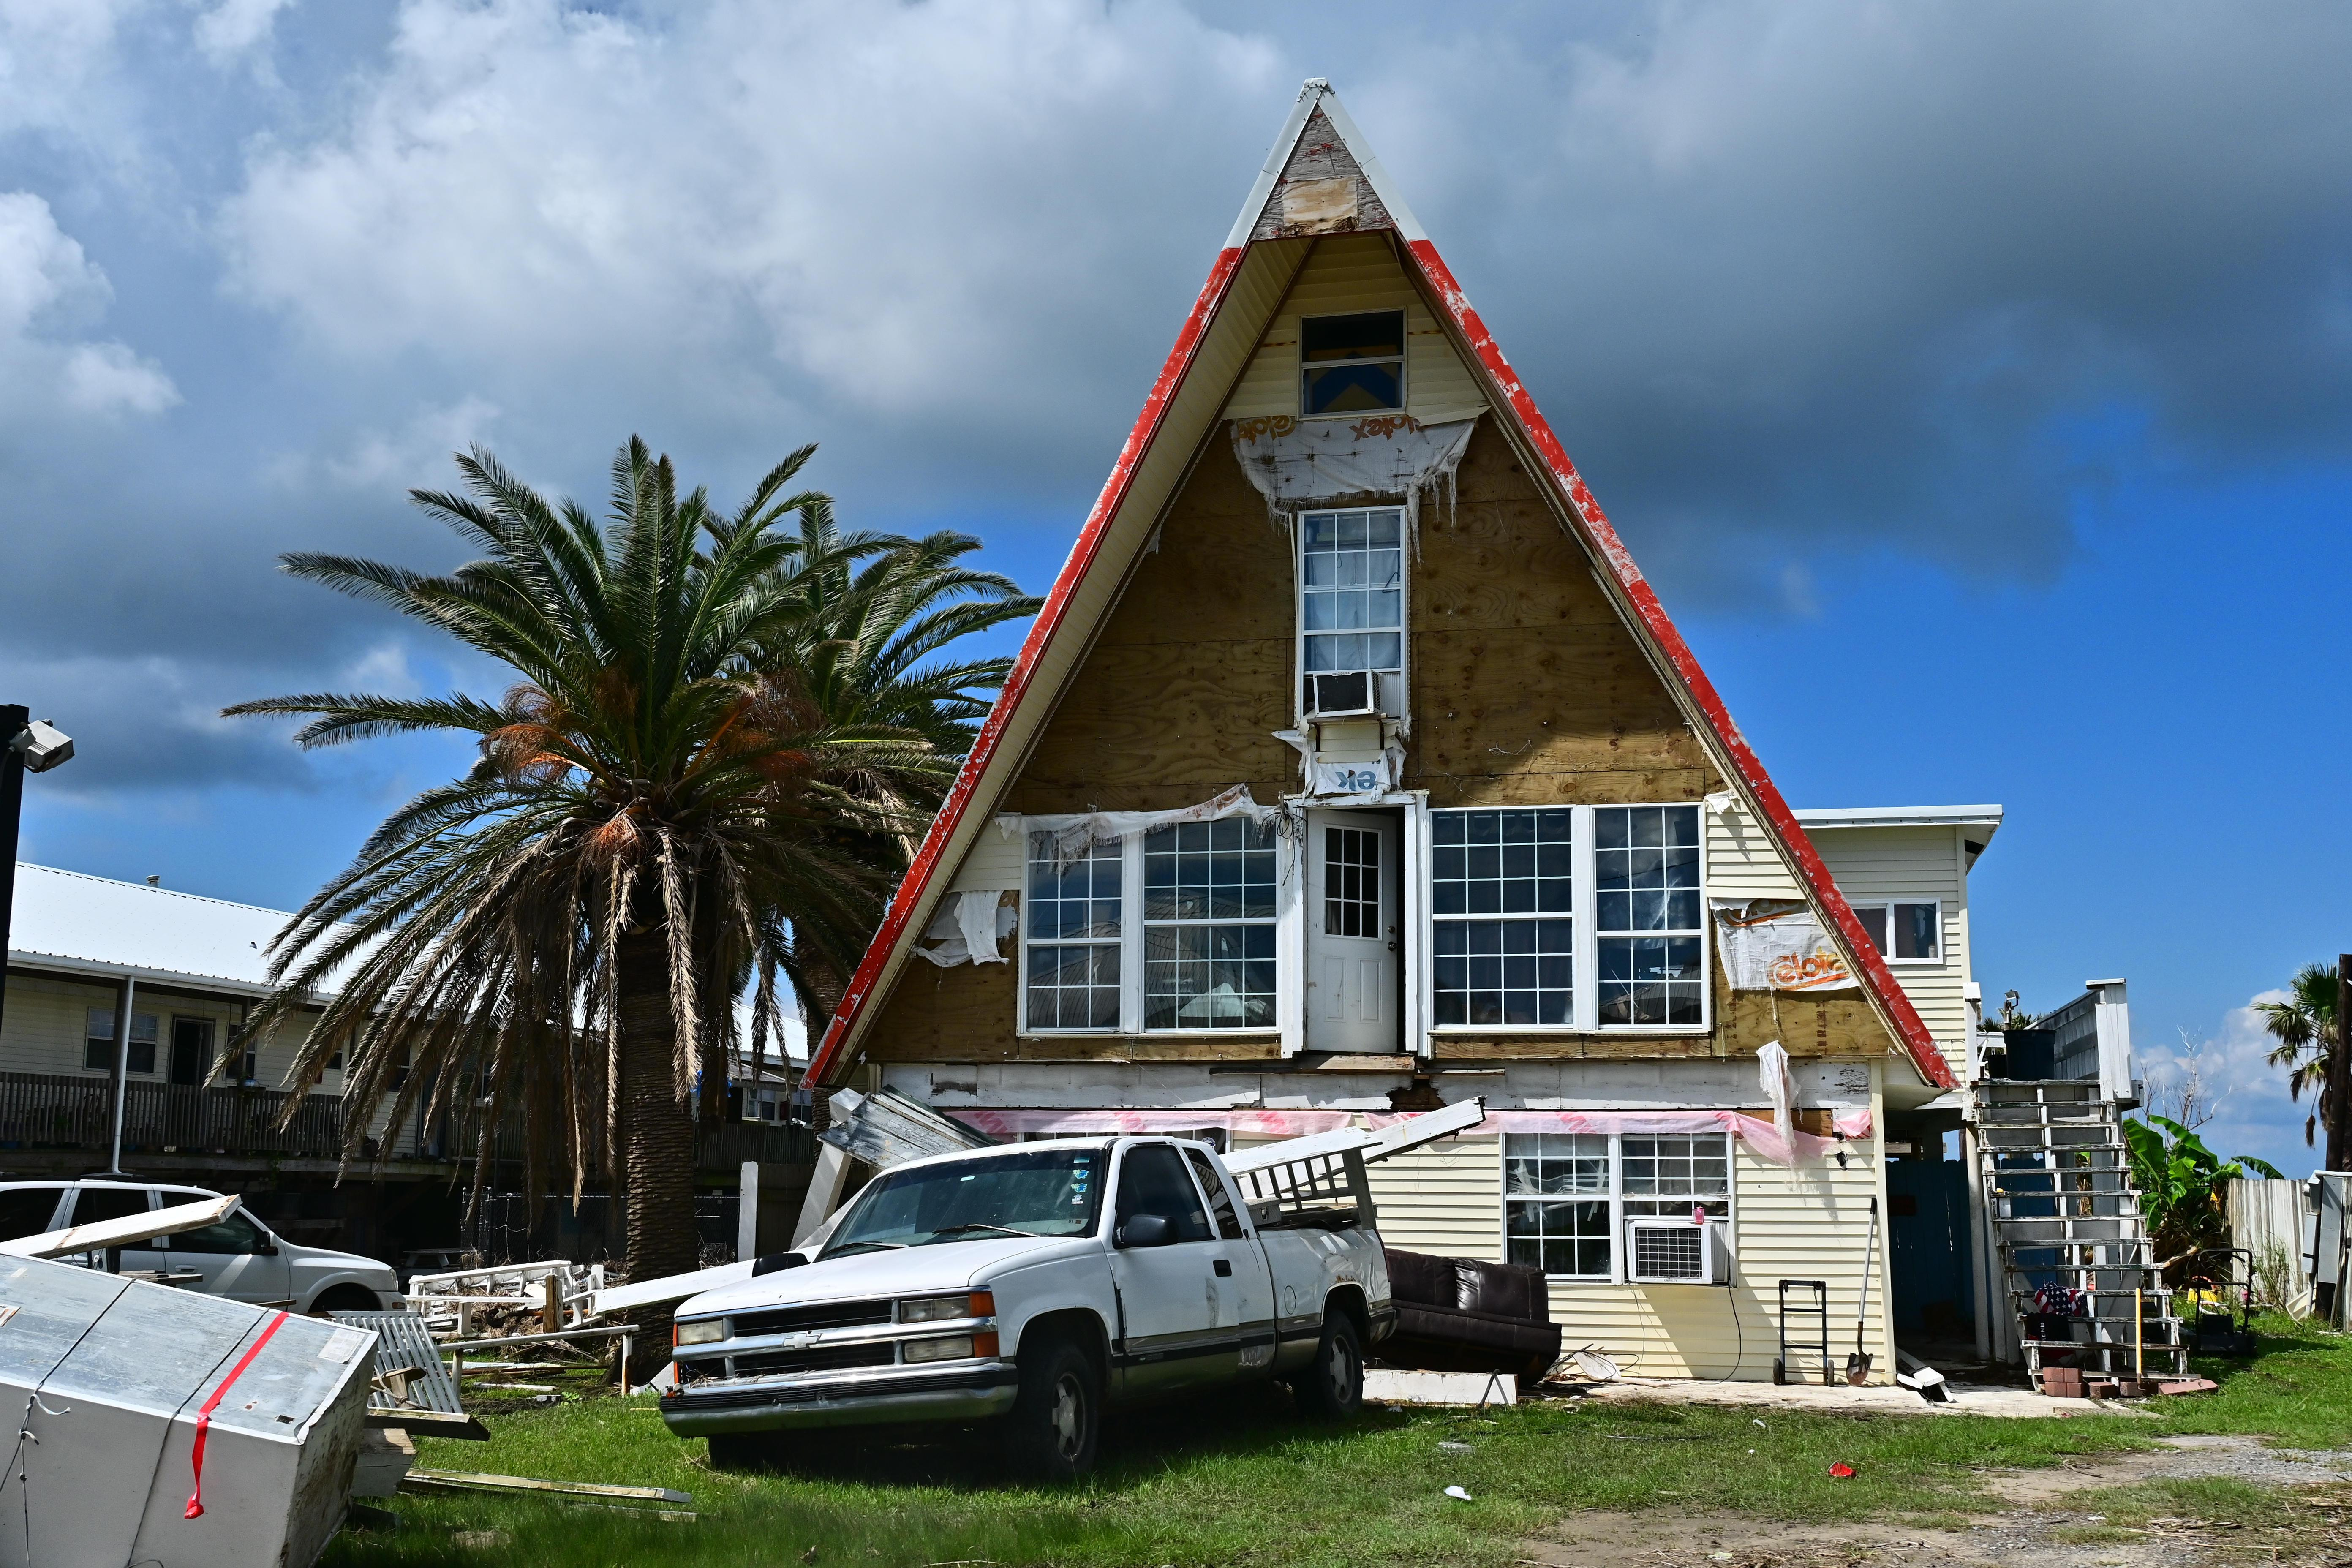minor: (691, 87, 2225, 1411)
